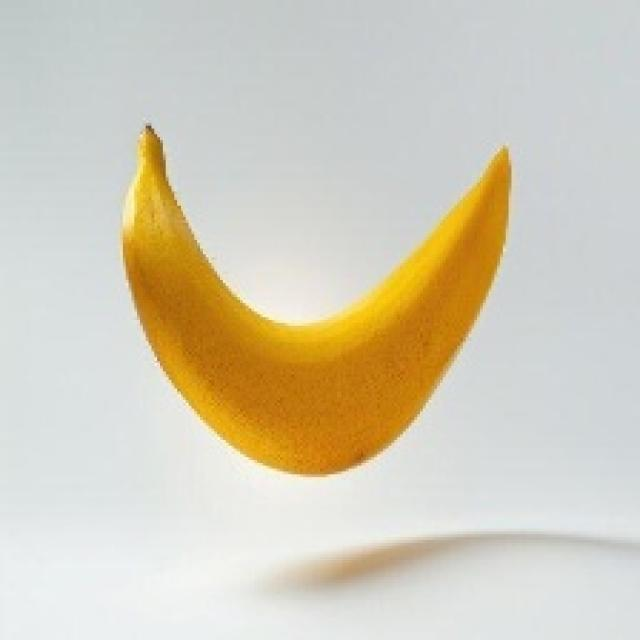Banana: (117, 120, 512, 477)
